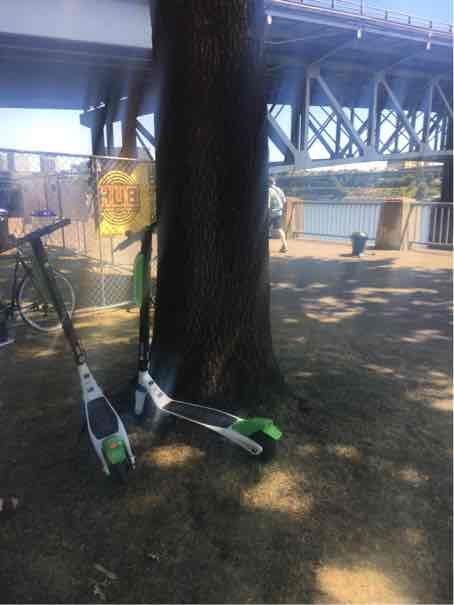scooter: (122, 217, 285, 457), (1, 217, 140, 478)
